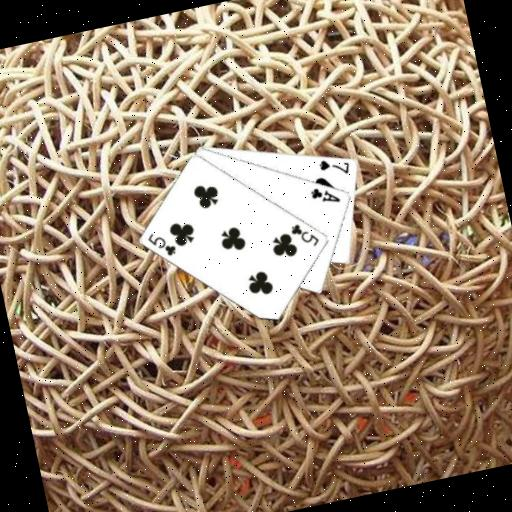5C: (286, 216, 322, 252), (143, 225, 179, 261)
7S: (315, 152, 353, 181)
AC: (306, 180, 342, 209)
